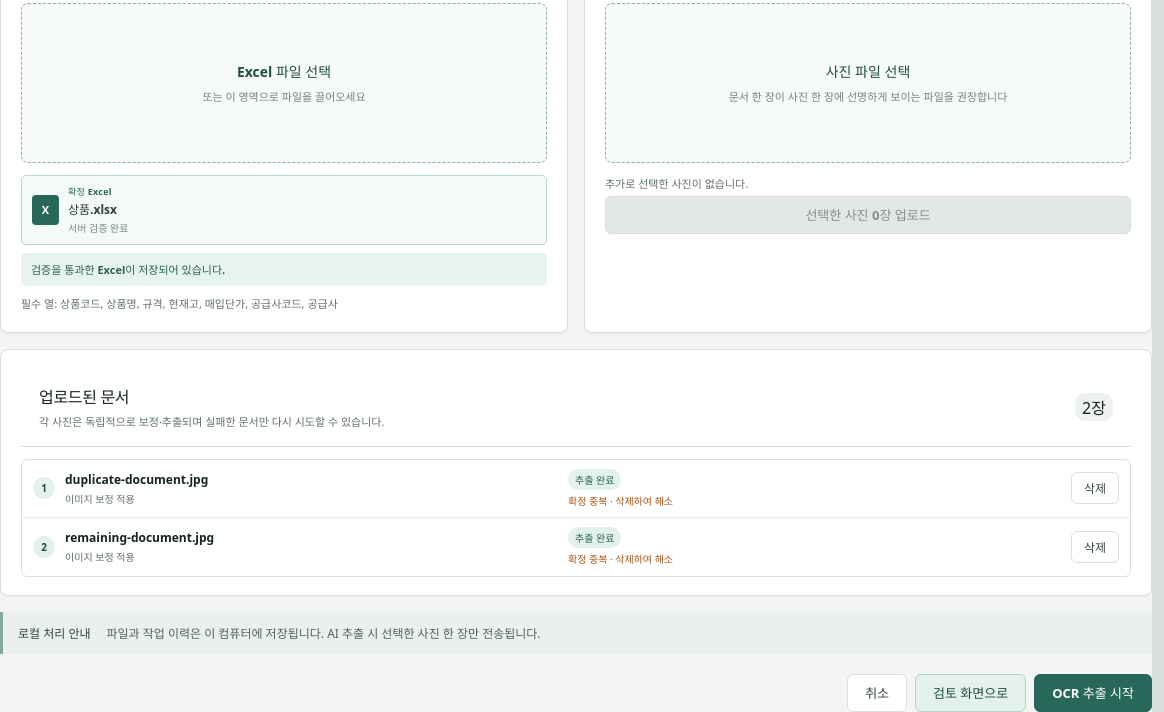
Test: 파일 업로드 › 확정 중복 문서를 확인 후 삭제하고 서버에서 재계산한 남은 문서 상태를 반영한다
The width and height of the screenshot is (1164, 712).
(page scrolled)
Check: the text "확정 중복 · 삭제하여 해소" is shown 2 times, box [568,493,673,508]; [568,551,673,566]
Click the button with aria-label "duplicate-document.jpg 삭제". click: (1095, 488)
box: [1071,472,1119,504]
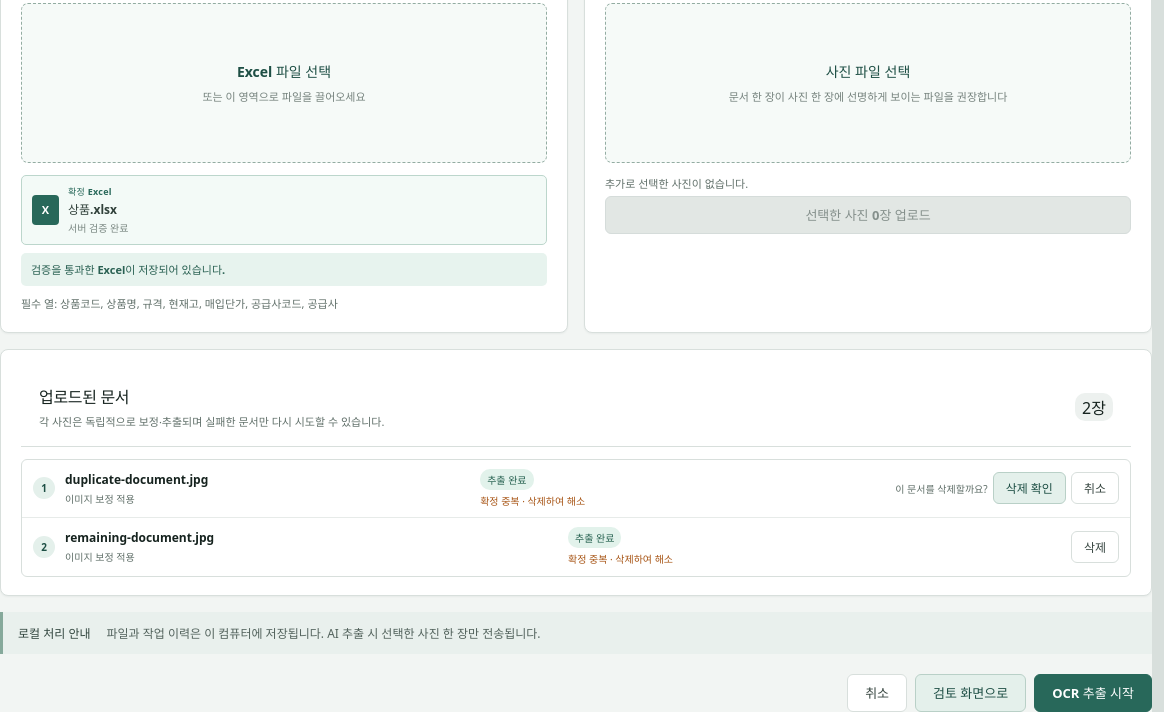
Click the button with aria-label "duplicate-document.jpg 삭제 확인". click: (1029, 488)
box: [993,472,1066,504]
(page scrolled)
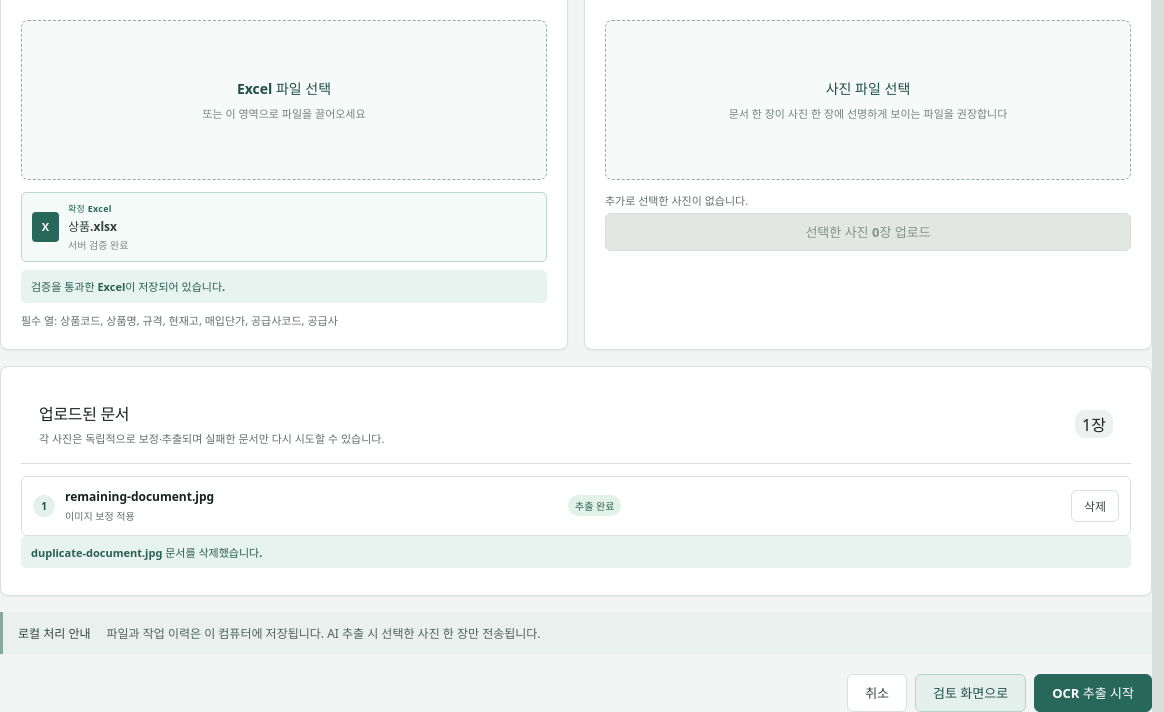
Check: the text "duplicate-document.jpg 문서를 삭제했습니다." is shown, box [21,536,1131,568]
Check: the text "확정 중복 · 삭제하여 해소" is gone
Check: the text "1장" is shown, box [1075,410,1113,438]
